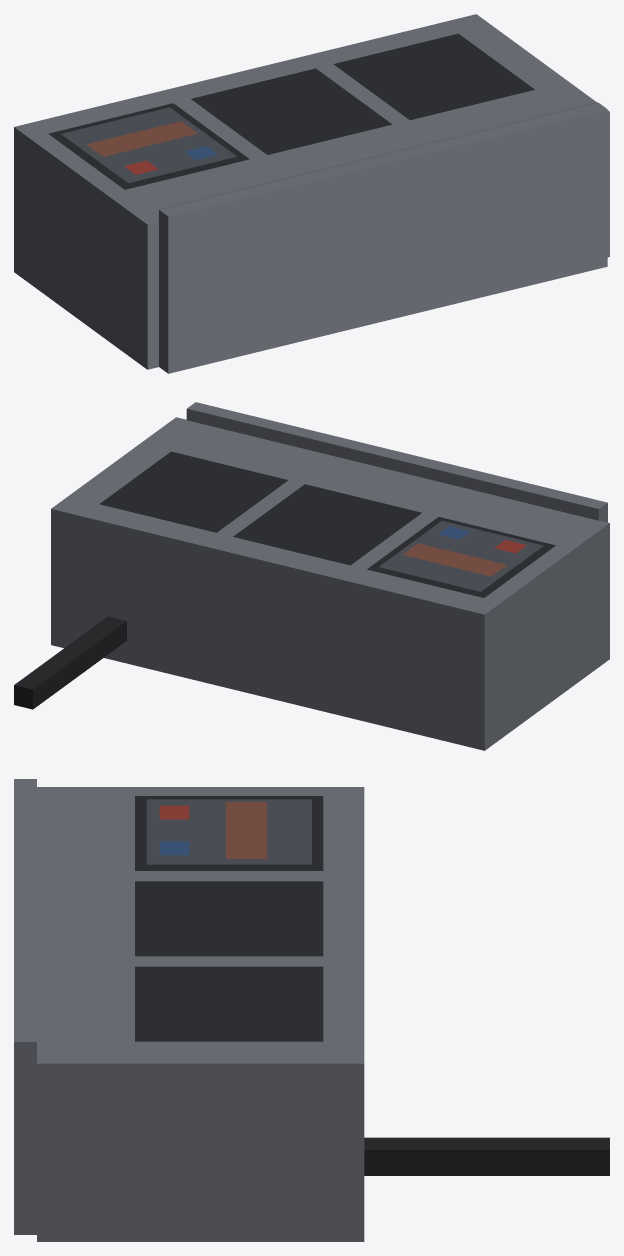
File: bank_wall_standard_c1_S.obj
3 views of the same model, one above another, from view 1: azimuth 30°, elevation 25°; view 2: azimuth 150°, elevation 25°; view 3: azimuth 270°, elevation 25° (orthographic). The views are drawn at different scales.
Parts seen in each view (by area): view 1: bank_wall_standard_c1_S; view 2: bank_wall_standard_c1_S; view 3: bank_wall_standard_c1_S.
Boxes of the visible parts, left/top/right/bottom form: bank_wall_standard_c1_S: left=14, top=14, right=609, bottom=373; bank_wall_standard_c1_S: left=14, top=402, right=609, bottom=750; bank_wall_standard_c1_S: left=14, top=779, right=609, bottom=1241.
Size of the model in its own units: 0.8 by 0.2635 by 0.728.
1 material, 1 textured.
